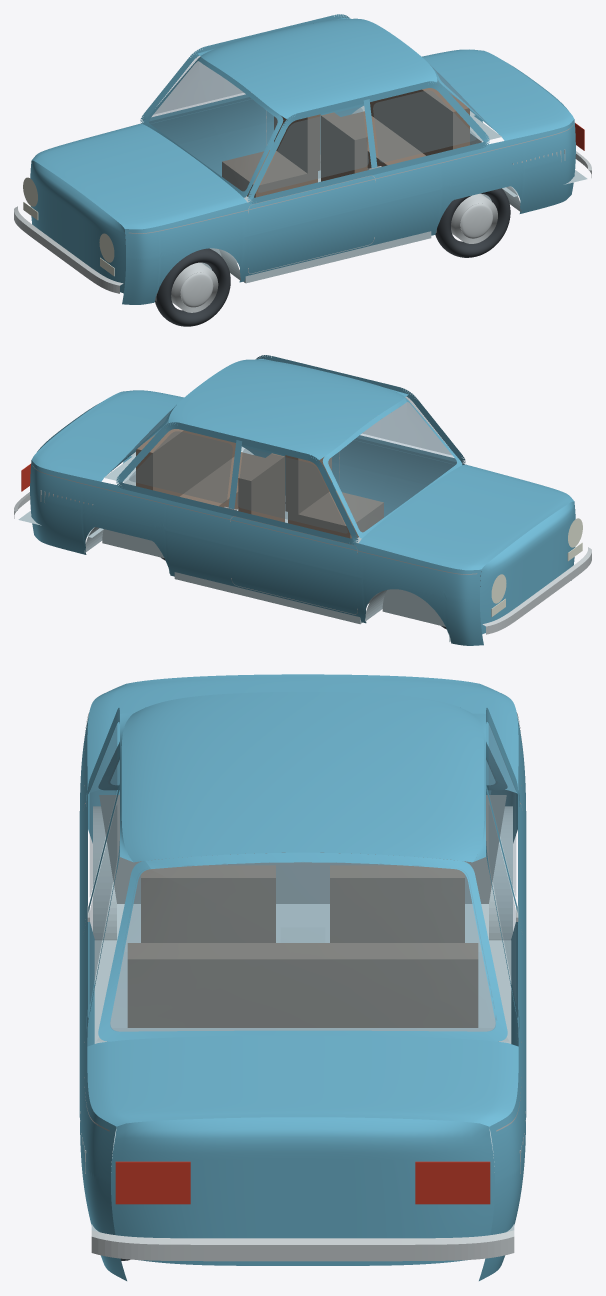
Rendered from zaz-968m-reconstructed.glb.
3 views of the same model, one above another, from view 1: azimuth 30°, elevation 25°; view 2: azimuth 150°, elevation 25°; view 3: azimuth 270°, elevation 25° (orthographic). The views are drawn at different scales.
Parts seen in each view (by area): view 1: Правая боковина и арки, Крыша, Передний капот, Правая боковое стекло, Лобовое стекло, Крышка моторного отсека, Передние сиденья — приблизительные, Заднее сиденье — приблизительное, Левая боковина и арки, Передняя панель, Колёса — неподвижный визуальный ориентир, Правая стойки и оконные рамки (+7 smaller); view 2: Левая боковина и арки, Крыша, Передний капот, Левая боковое стекло, Лобовое стекло, Крышка моторного отсека, Передние сиденья — приблизительные, Заднее сиденье — приблизительное, Правая боковина и арки, Передняя панель, Левая стойки и оконные рамки, Бамперы, ручки, молдинги (+7 smaller); view 3: Заднее стекло, Крыша, Задняя панель, Крышка моторного отсека, Заднее сиденье — приблизительное, Передние сиденья — приблизительные, Передний капот, Бамперы, ручки, молдинги, Заднее стекло рамка, Передняя перегородка и наклонный пол, Правая боковина и арки, Левая боковина и арки (+12 smaller).
Boxes of the visible parts, x1,y1,x2,y2 form: Правая боковина и арки: [122, 119, 575, 304]; Крыша: [200, 18, 437, 118]; Передний капот: [32, 124, 246, 229]; Правая боковое стекло: [258, 90, 476, 192]; Лобовое стекло: [149, 61, 277, 191]; Крышка моторного отсека: [422, 49, 574, 140]; Передние сиденья — приблизительные: [222, 112, 367, 197]; Заднее сиденье — приблизительное: [341, 88, 469, 168]; Левая боковина и арки: [30, 97, 482, 176]; Передняя панель: [30, 160, 125, 293]; Колёса — неподвижный визуальный ориентир: [124, 188, 510, 326]; Правая стойки и оконные рамки: [247, 81, 489, 203]; Левая боковина и арки: [30, 460, 483, 645]; Крыша: [168, 359, 405, 458]; Передний капот: [359, 464, 574, 570]; Левая боковое стекло: [129, 431, 347, 533]; Лобовое стекло: [328, 402, 456, 532]; Крышка моторного отсека: [31, 390, 183, 481]; Передние сиденья — приблизительные: [238, 453, 383, 538]; Заднее сиденье — приблизительное: [136, 429, 264, 509]; Правая боковина и арки: [123, 438, 575, 580]; Передняя панель: [480, 501, 575, 633]; Левая стойки и оконные рамки: [116, 422, 358, 544]; Бамперы, ручки, молдинги: [14, 452, 591, 634]; Заднее стекло: [110, 862, 496, 1031]; Крыша: [121, 691, 484, 862]; Задняя панель: [111, 1117, 494, 1265]; Крышка моторного отсека: [87, 1035, 518, 1126]; Заднее сиденье — приблизительное: [127, 943, 478, 1027]; Передние сиденья — приблизительные: [141, 865, 464, 942]; Передний капот: [87, 674, 518, 792]; Бамперы, ручки, молдинги: [80, 712, 525, 1261]; Заднее стекло рамка: [98, 852, 507, 1041]; Передняя перегородка и наклонный пол: [99, 795, 506, 951]; Правая боковина и арки: [79, 715, 126, 1280]; Левая боковина и арки: [479, 715, 526, 1280].
Bounding box in the file's own units: 3.77 × 1.4 × 1.49.
